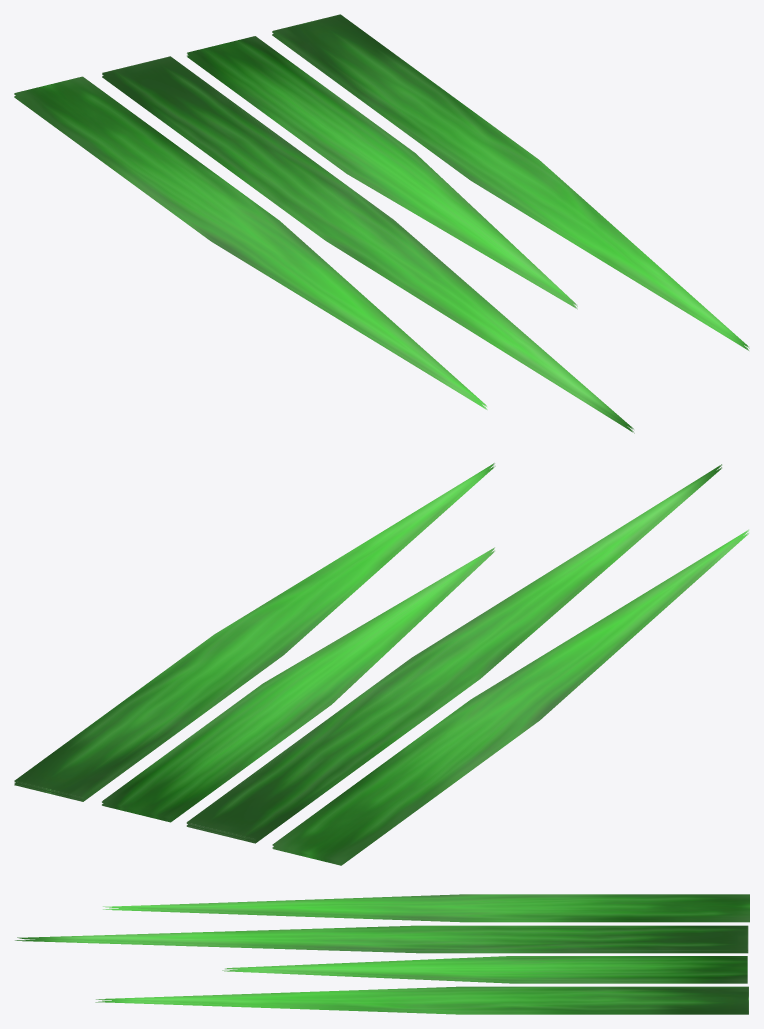
The model's file is grassPatch.fbx.
The picture shows the model from 3 angles, top to bottom: view 1: azimuth 30°, elevation 25°; view 2: azimuth 150°, elevation 25°; view 3: azimuth 270°, elevation 25°; orthographic projection. The views are drawn at different scales.
Visible parts, largest first — view 1: GrassPatch; view 2: GrassPatch; view 3: GrassPatch.
Part boxes in pixels (x1,y1,x2,y2): GrassPatch: [14, 14, 749, 433]; GrassPatch: [14, 463, 748, 865]; GrassPatch: [15, 894, 749, 1014].
Bounding box in the file's own units: 0.1673 × 0.00199 × 0.4446.
